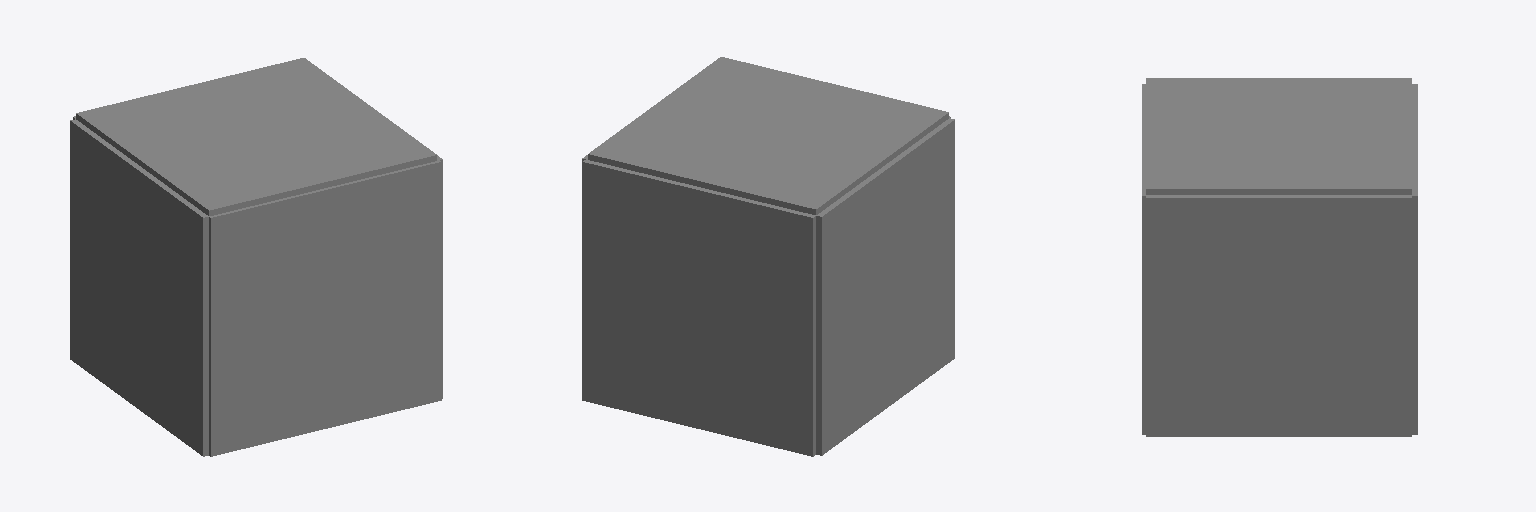
File: room.obj
The picture shows the model from 3 angles: view 1: azimuth 30°, elevation 25°; view 2: azimuth 150°, elevation 25°; view 3: azimuth 270°, elevation 25°; orthographic projection.
Parts seen in each view (by area): view 1: Box003; view 2: Box003; view 3: Box003.
Part boxes in pixels (x1,y1,x2,y2): Box003: (70,58,442,456); Box003: (582,57,954,456); Box003: (1142,78,1417,436).
Bounding box in the file's own units: 10.5 × 10.25 × 10.5.